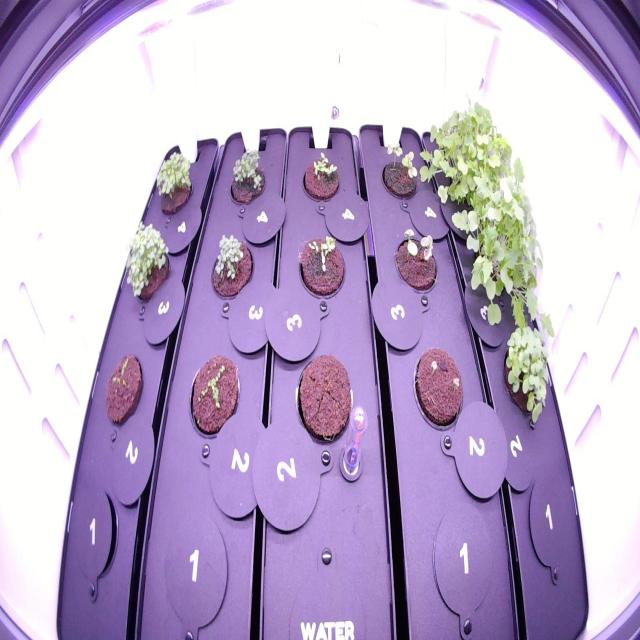empty_pod: (426, 494, 502, 621), (157, 507, 230, 629), (524, 466, 579, 581), (69, 486, 124, 580)
germination: (180, 347, 244, 443), (117, 215, 177, 314), (408, 339, 466, 436), (293, 226, 350, 306), (205, 224, 258, 303), (99, 347, 147, 432), (374, 137, 424, 214), (390, 223, 441, 298), (151, 144, 197, 223), (296, 146, 348, 212), (226, 137, 270, 212)
pod: (291, 348, 360, 454)
